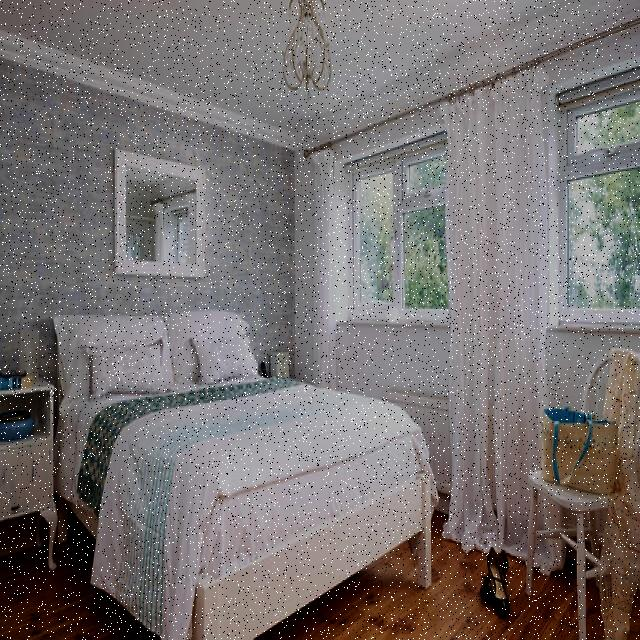bed: (49, 296, 438, 633)
